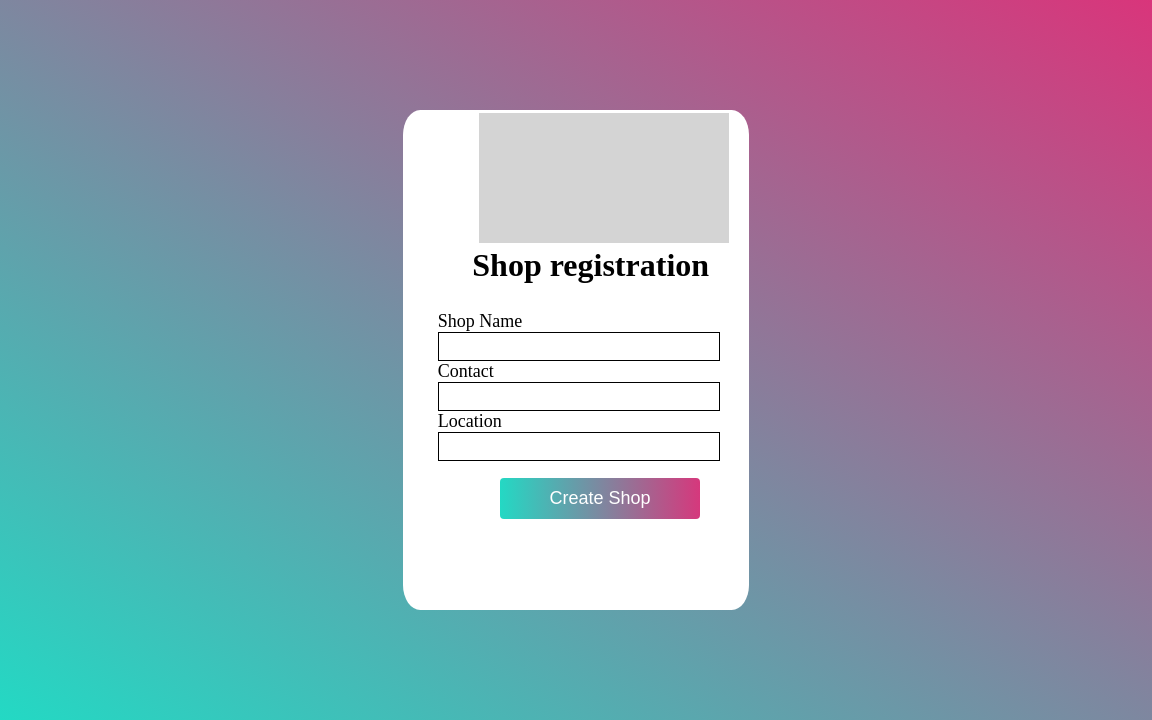
Test: SellerForm Component › displays error when the contact number is invalid
The width and height of the screenshot is (1152, 720).
Type "Test Shop" into the field labelled "Shop Name". click: coordinates (579, 346)
box: x1=438 y1=332 x2=720 y2=361
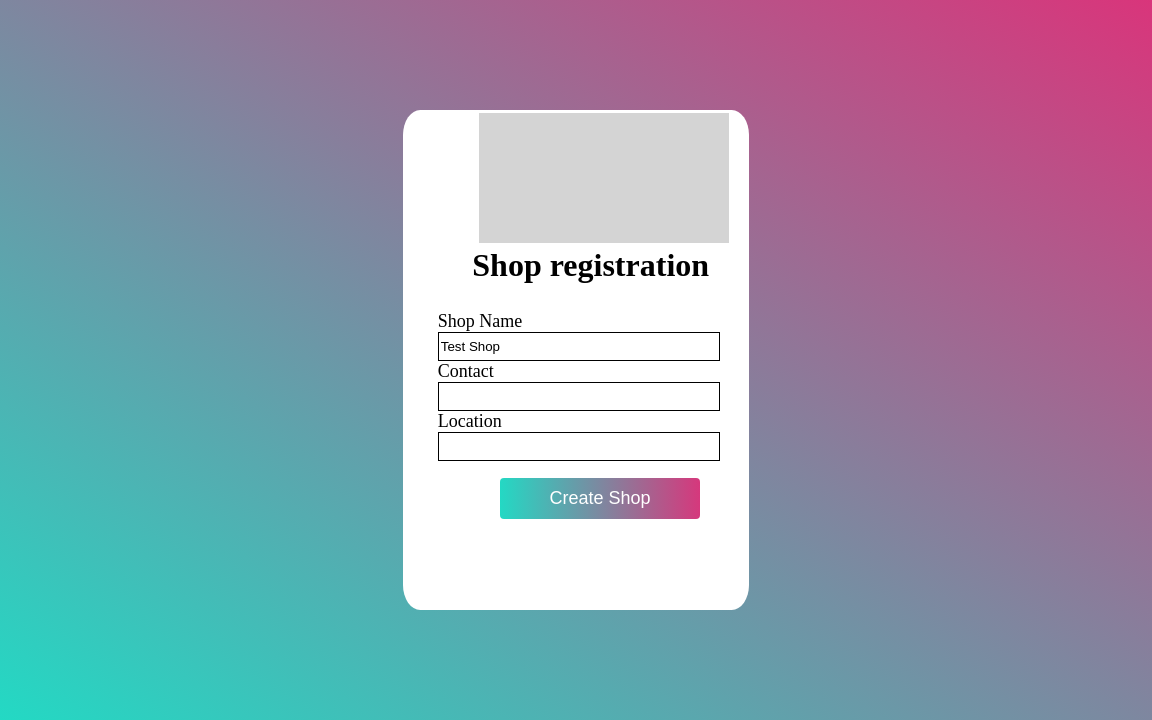
Type "1234abc" into the field labelled "Contact". click: coordinates (579, 396)
box: x1=438 y1=382 x2=720 y2=411
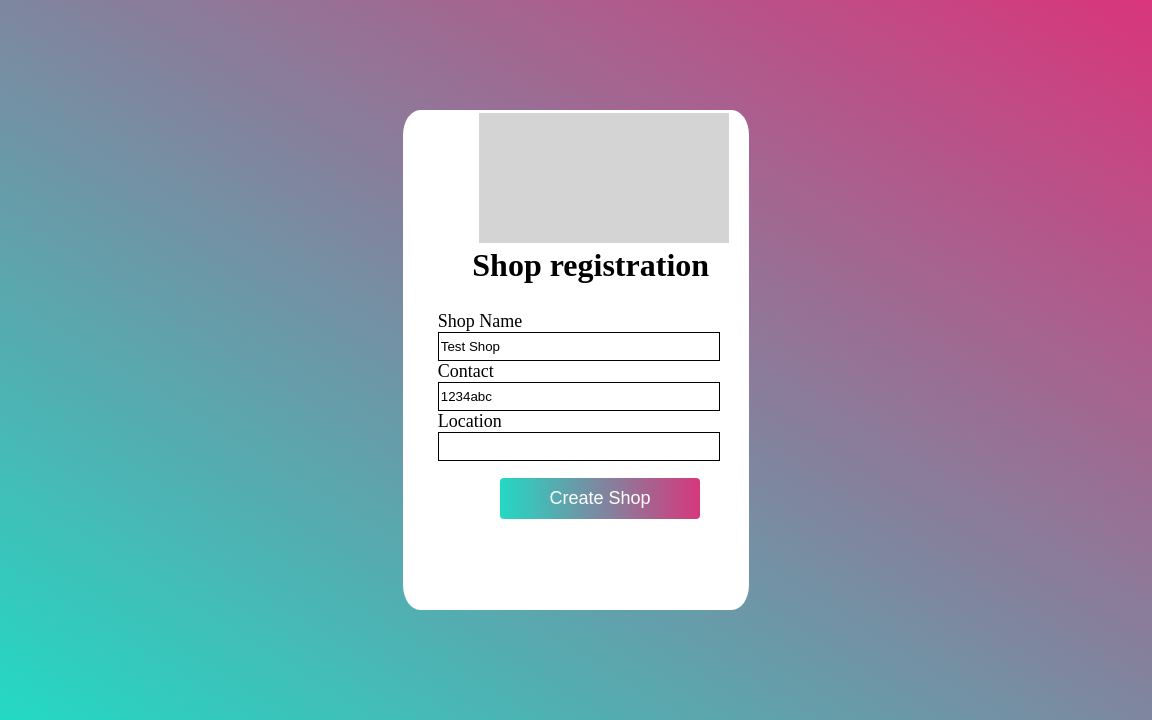
Type "Test Location" into the field labelled "Location". click: coordinates (579, 446)
box: x1=438 y1=432 x2=720 y2=461
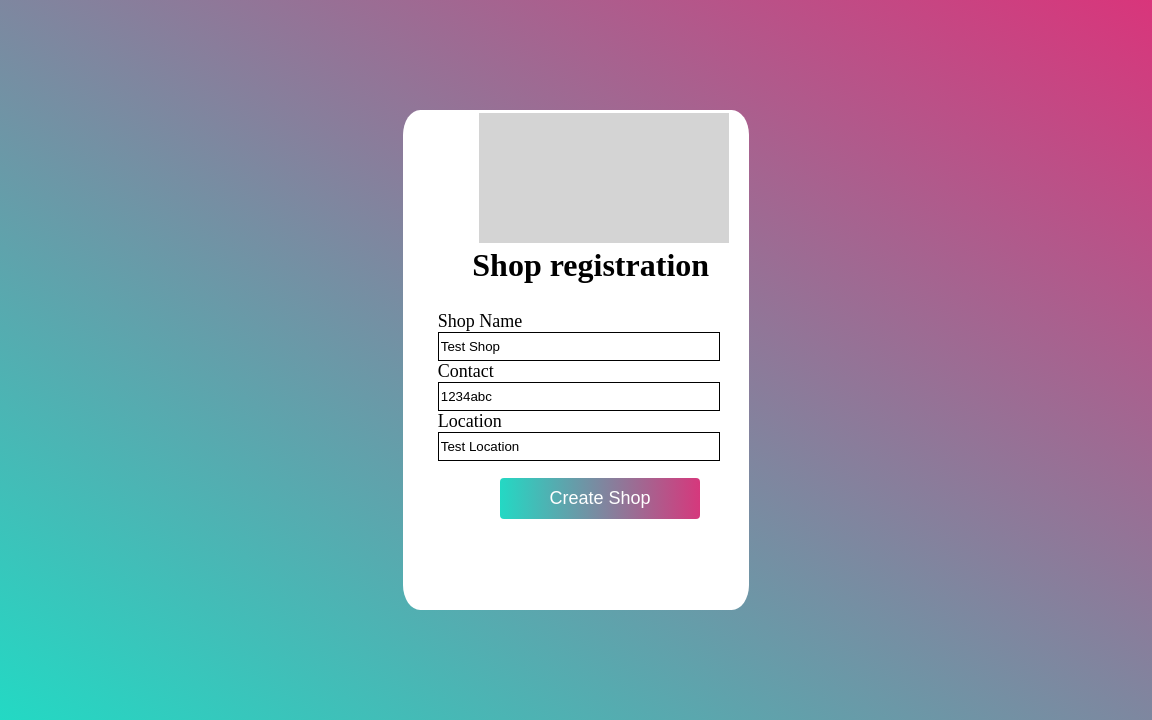
Click the button with test id "signUpButton". click: coordinates (600, 499)
box: x1=500 y1=478 x2=700 y2=519
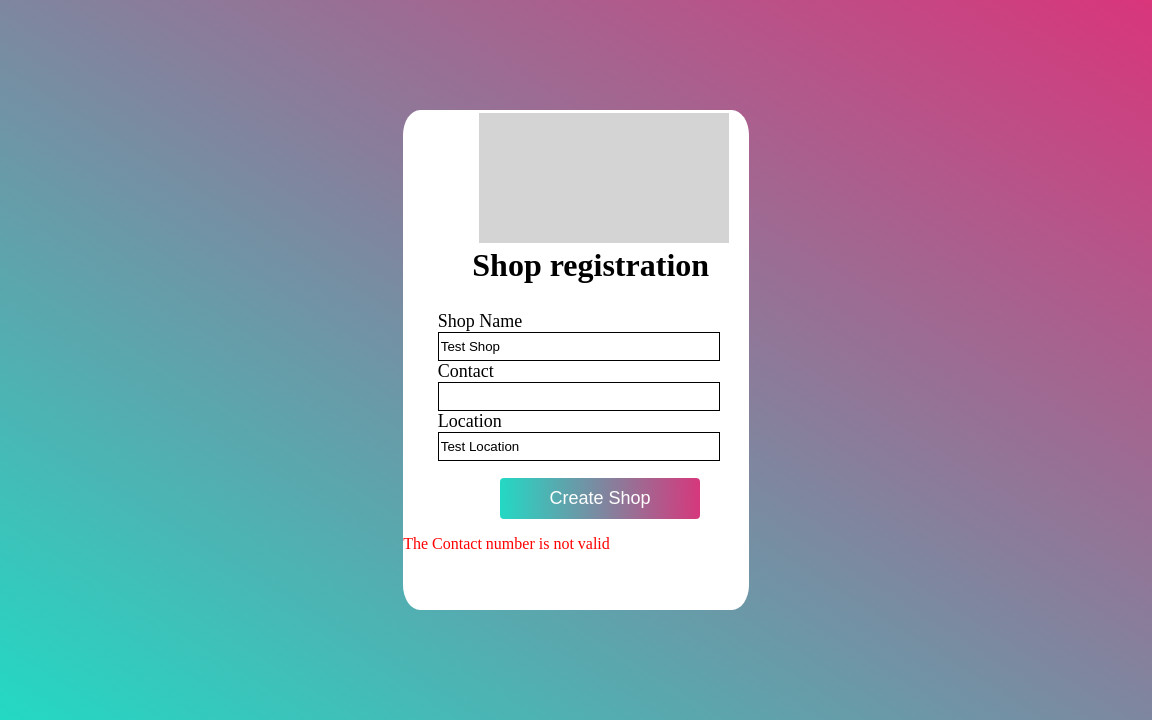
Result: the text "The Contact number is not valid" is shown at x1=403 y1=535 x2=610 y2=552
